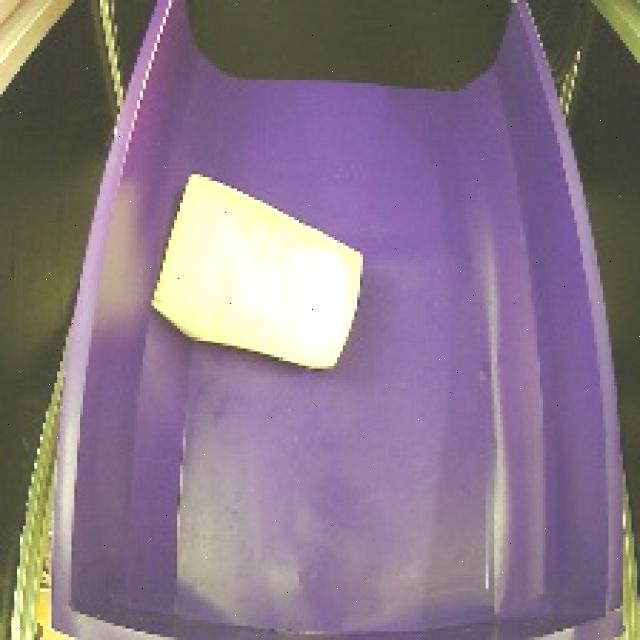white_radish: (139, 172, 370, 379)
